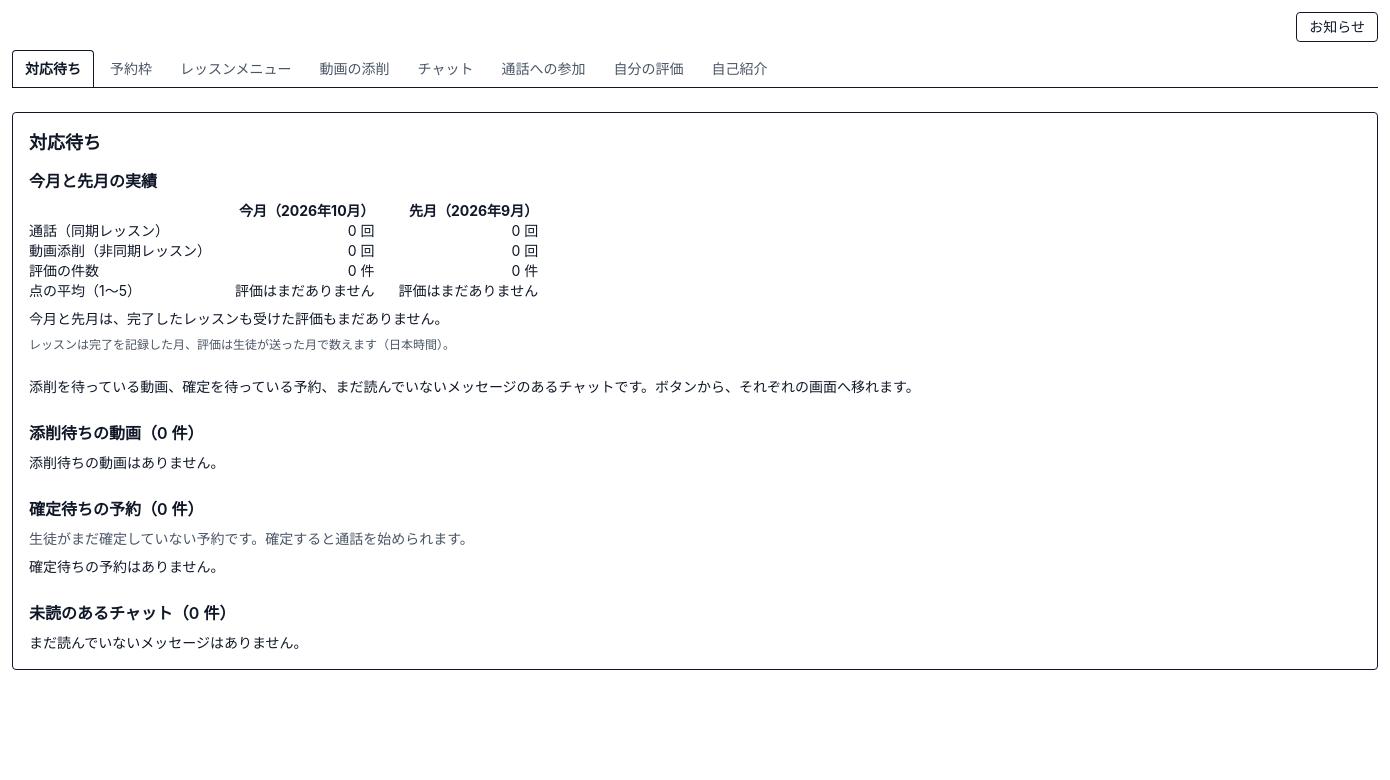
Scenario: 自己紹介 › コーチの画面に「自己紹介」の欄があり、今の自己紹介文を出す
Click the tab "自己紹介" at (740, 68), box [700,50,780,87]
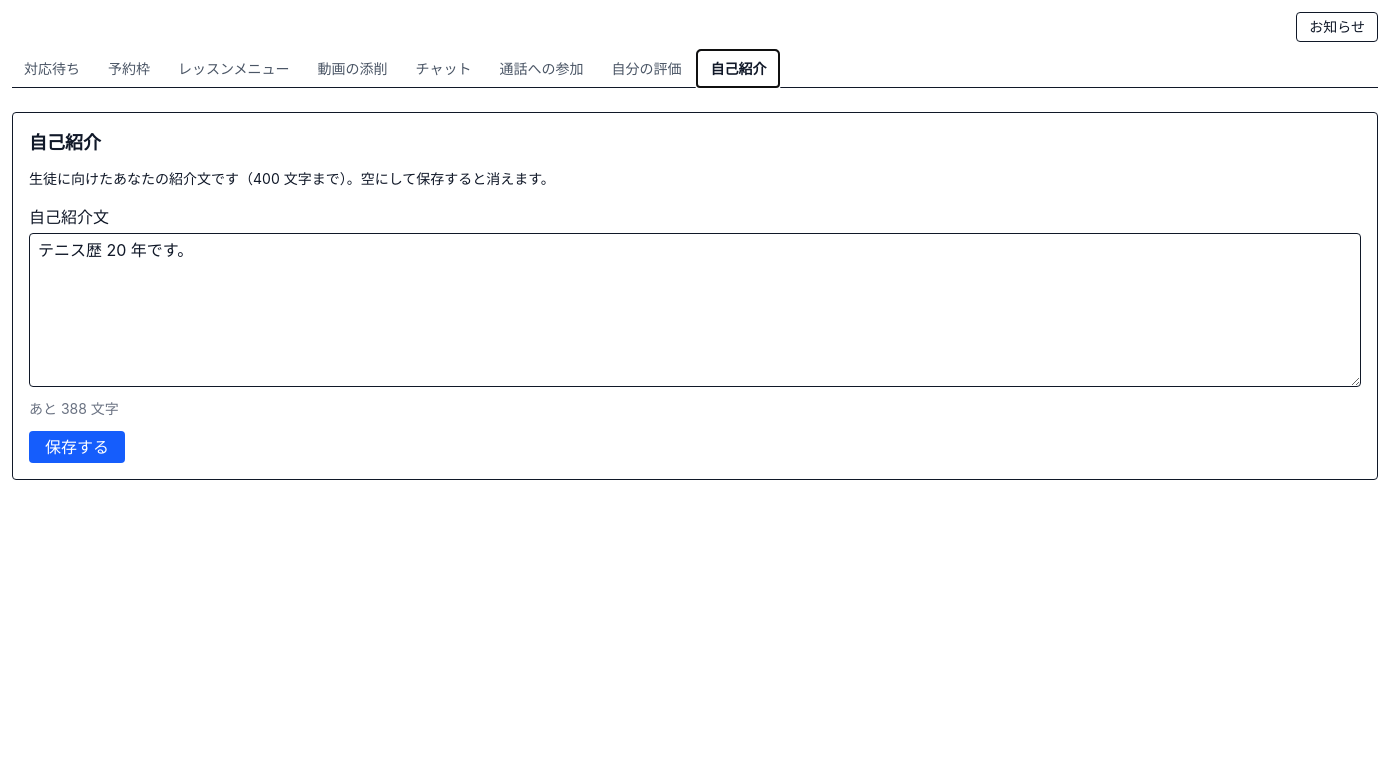
Result: the text box labelled "自己紹介文" holds "テニス歴 20 年です。" at [29,233,1361,387]
